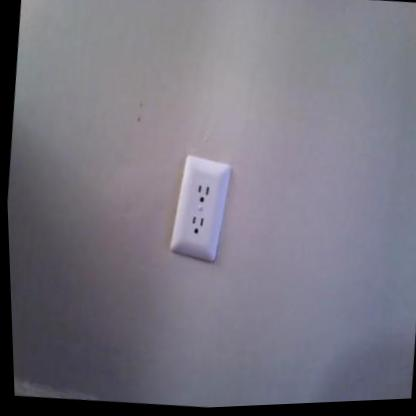OUTLET: (165, 153, 233, 265)
